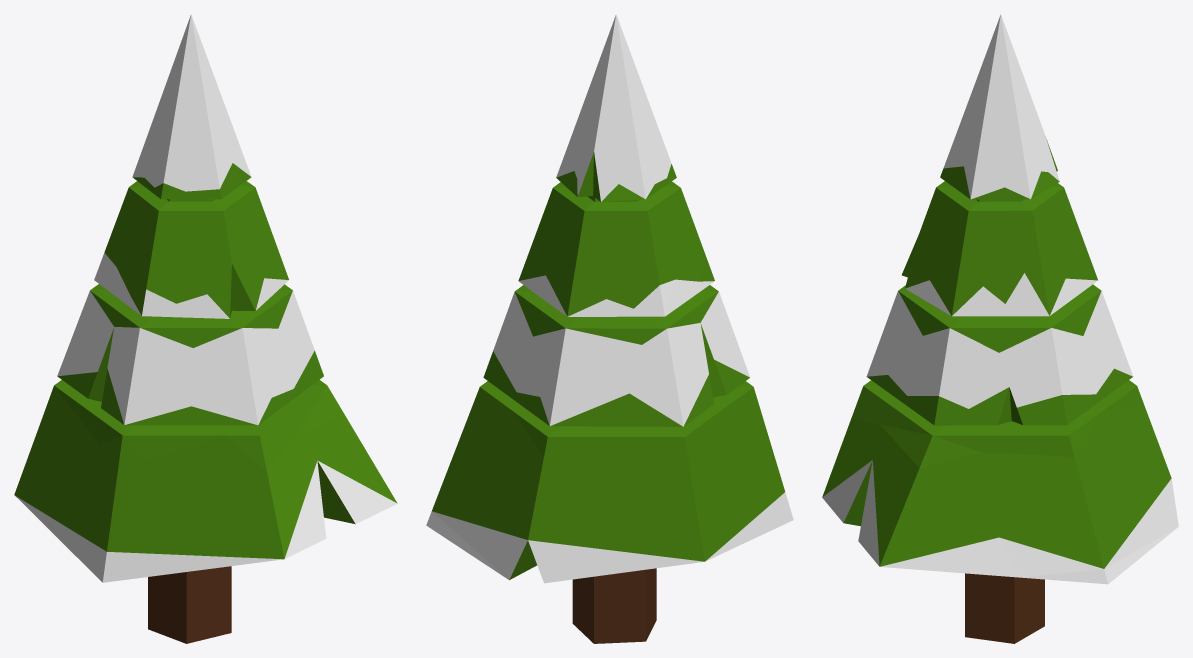
The model's file is Snow_tree_3_lowPoly.fbx.
3 renders of one model, left to right at view 1: azimuth 30°, elevation 25°; view 2: azimuth 150°, elevation 25°; view 3: azimuth 270°, elevation 25°, orthographic.
Visible parts, largest first — view 1: Цилиндр; view 2: Цилиндр; view 3: Цилиндр.
Part boxes in pixels (<box>): Цилиндр: <box>14,14,397,643</box>; Цилиндр: <box>426,14,793,643</box>; Цилиндр: <box>822,14,1178,643</box>.
Size of the model in its own units: 728 by 1526 by 806.
